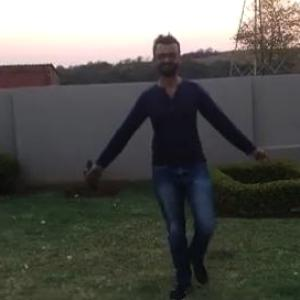land: (72, 31, 293, 287)
